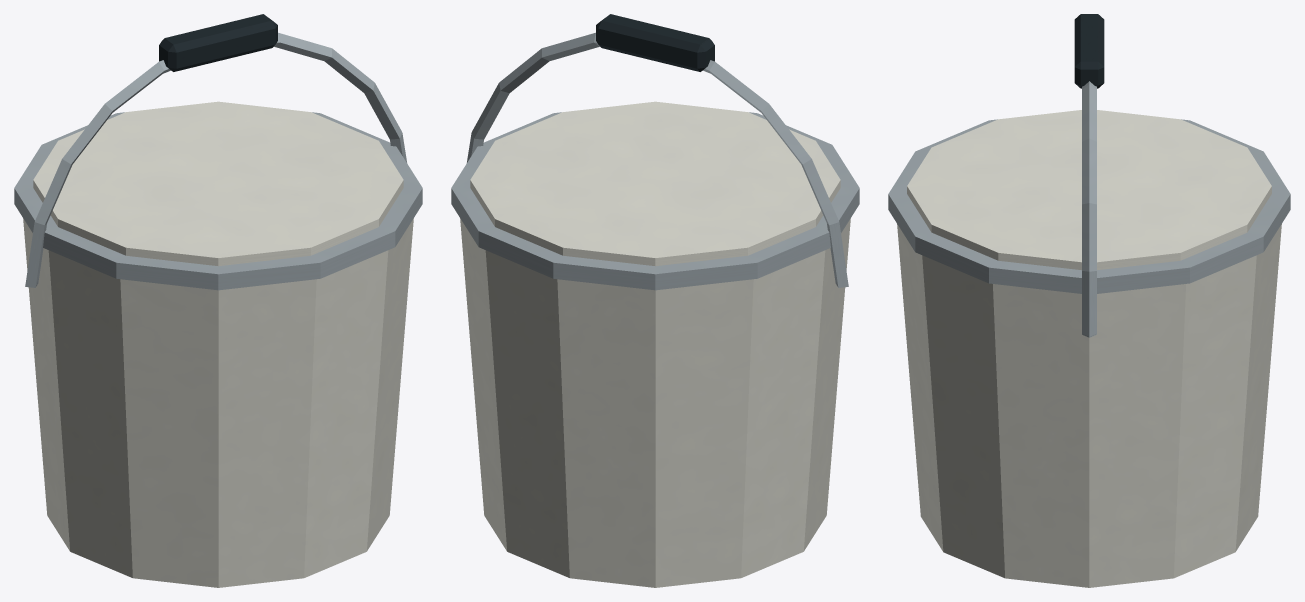
File: 15_paint_bucket_closed.glb
3 renders of one model, left to right at view 1: azimuth 30°, elevation 25°; view 2: azimuth 150°, elevation 25°; view 3: azimuth 270°, elevation 25°, orthographic.
Visible parts, largest first — view 1: Body; view 2: Body; view 3: Body.
Boxes of the visible parts, x1,y1,x2,y2 form: Body: (14,14,422,587); Body: (451,14,859,587); Body: (888,14,1290,587).
Bounding box in the file's own units: 0.352 × 0.423 × 0.322.
Materials: 1 (1 with a texture image).
